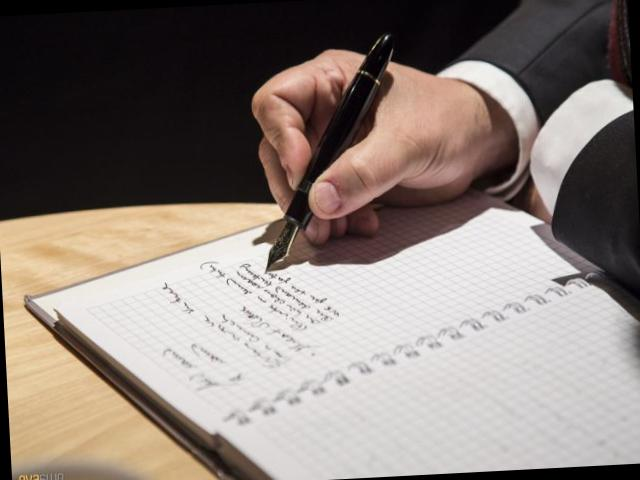PEN: (234, 29, 406, 286)
